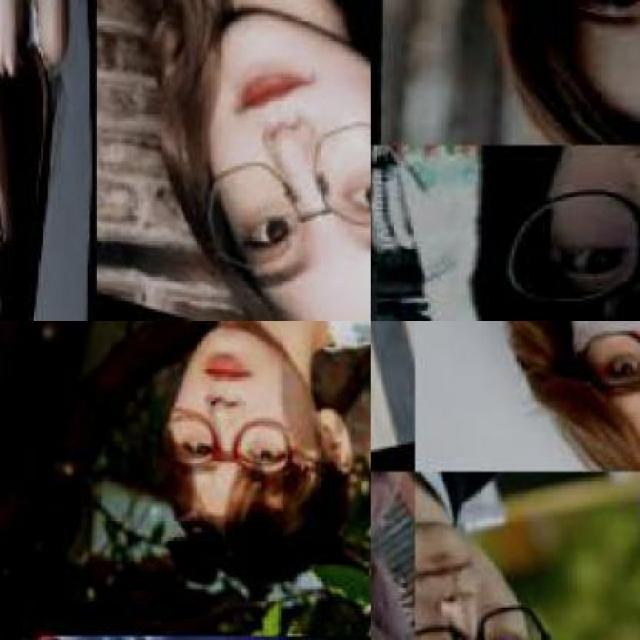glasses: (192, 113, 370, 268), (502, 194, 638, 318), (154, 411, 298, 479), (417, 588, 563, 638), (564, 320, 638, 398)
